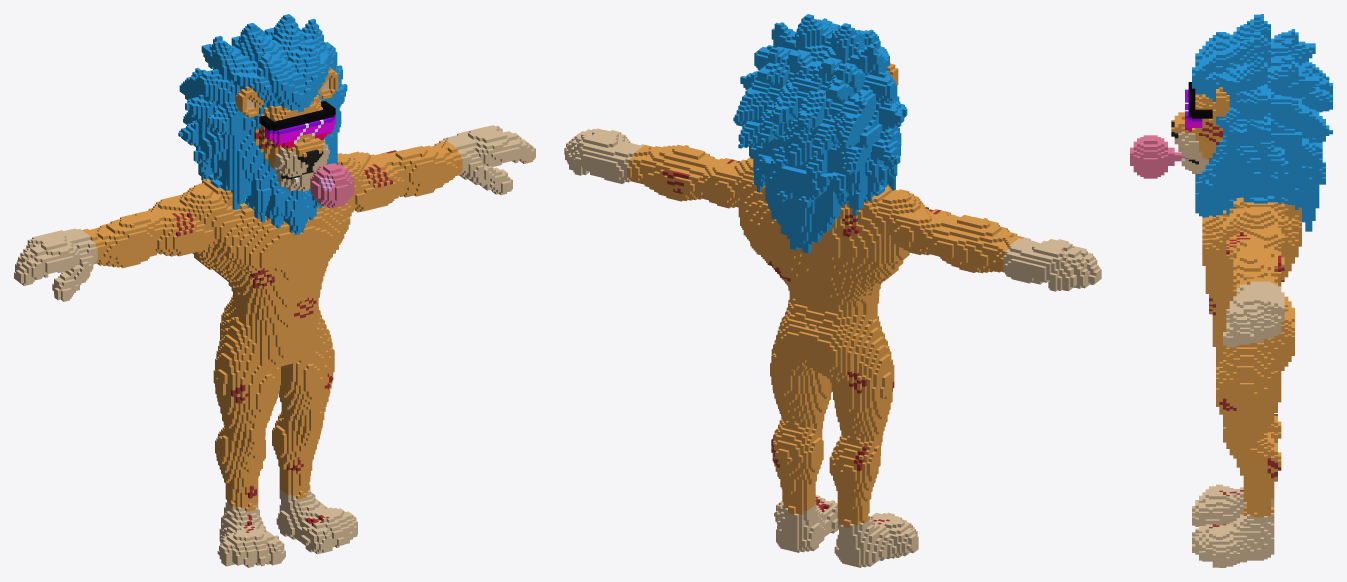
The model's file is 418-OdkqK52u.glb.
The picture shows the model from 3 angles, left to right: view 1: azimuth 30°, elevation 25°; view 2: azimuth 150°, elevation 25°; view 3: azimuth 270°, elevation 25°; orthographic projection. The views are drawn at different scales.
Visible parts, largest first — view 1: bubble_gum; view 2: bubble_gum; view 3: bubble_gum.
Boxes of the visible parts, <box> form: bubble_gum: <box>14,14,535,567</box>; bubble_gum: <box>564,14,1101,567</box>; bubble_gum: <box>1130,14,1332,567</box>.
Size of the model in its own units: 17.2 by 16.5 by 5.9.
Materials: 4 (4 with a texture image).
